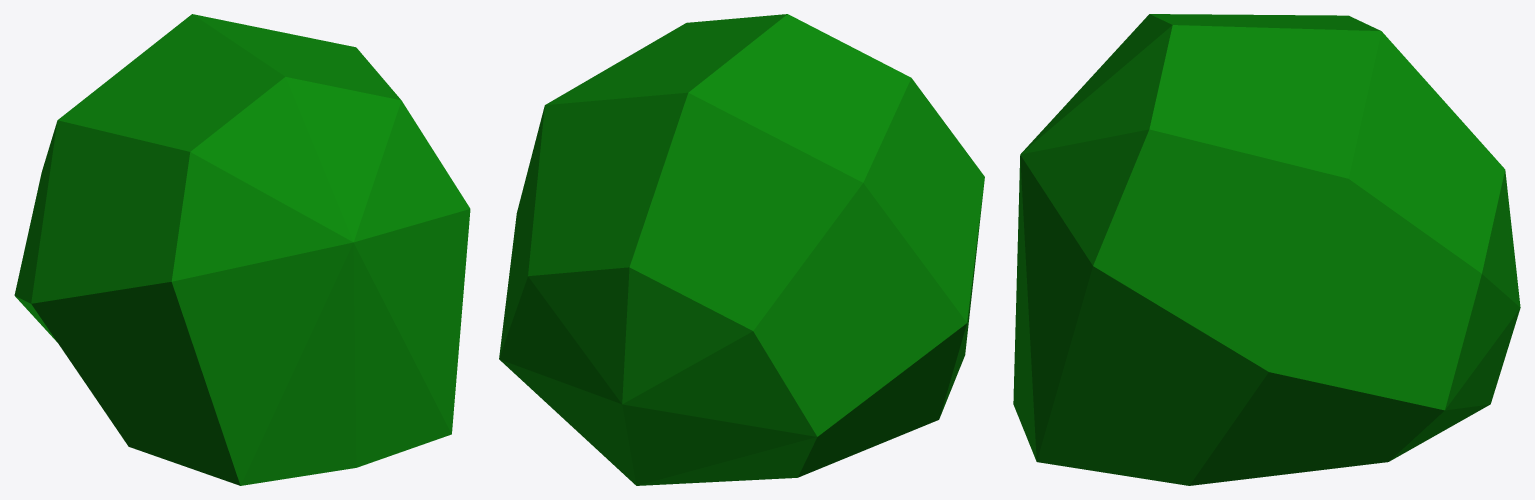
Rendered from Bush4.FBX.
3 views of the same model, side by side, from view 1: azimuth 30°, elevation 25°; view 2: azimuth 150°, elevation 25°; view 3: azimuth 270°, elevation 25° (orthographic). The views are drawn at different scales.
Parts seen in each view (by area): view 1: Bush4; view 2: Bush4; view 3: Bush4.
Part boxes in pixels (bbox=[...]): Bush4: bbox=[14, 14, 470, 485]; Bush4: bbox=[499, 14, 984, 485]; Bush4: bbox=[1013, 14, 1520, 485].
Bounding box in the file's own units: 3820 × 2927 × 3547.
